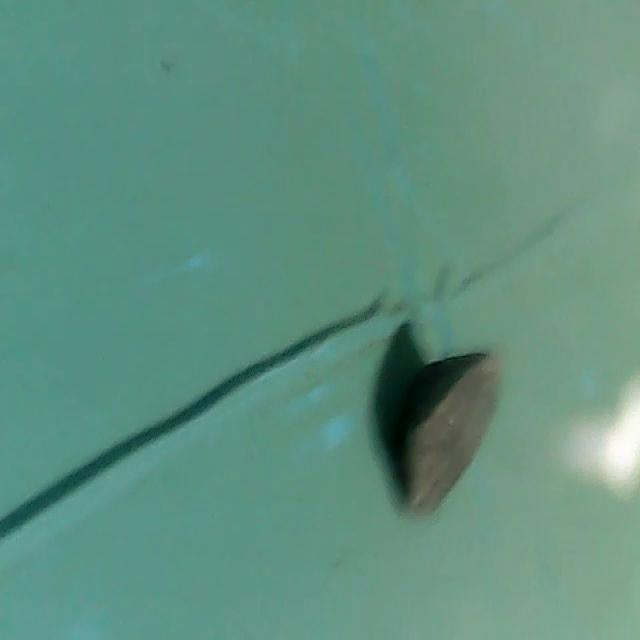rock: (383, 336, 509, 533)
